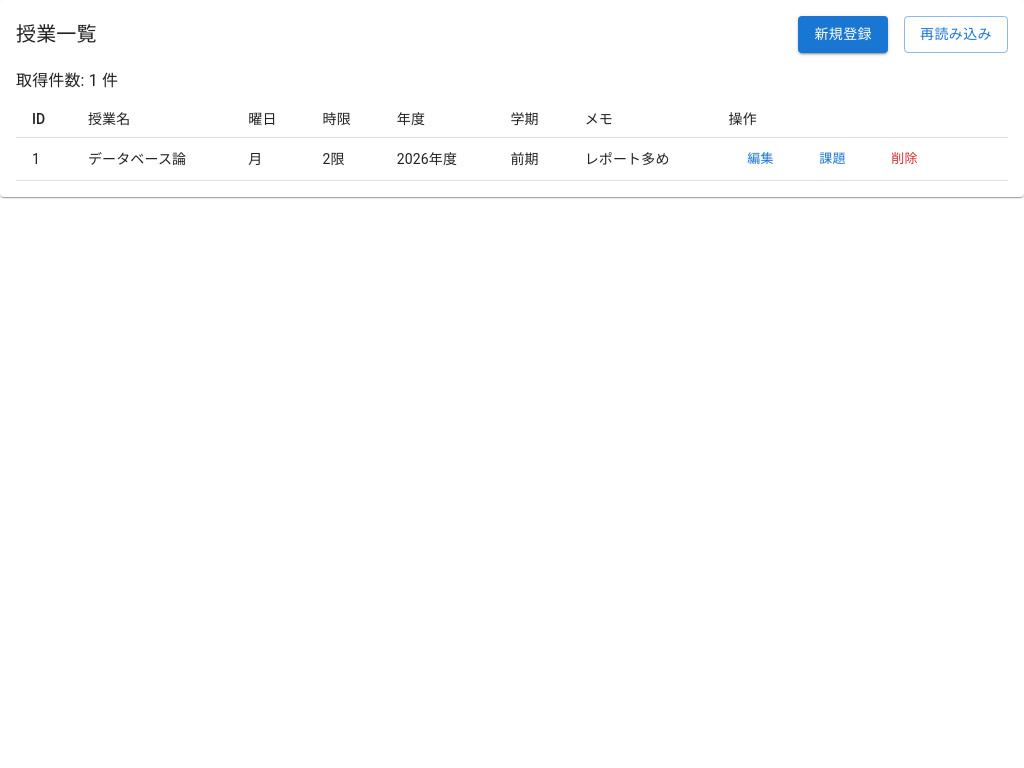
Test: 授業の編集 › 更新時にAPIがエラーを返すとダイアログ内に表示する
Check: the text "データベース論" is shown, box top-left (72, 137), bottom-right (232, 181)
Click the button with aria-label "授業「データベース論」を編集": (760, 159) top-left (728, 144), bottom-right (792, 174)
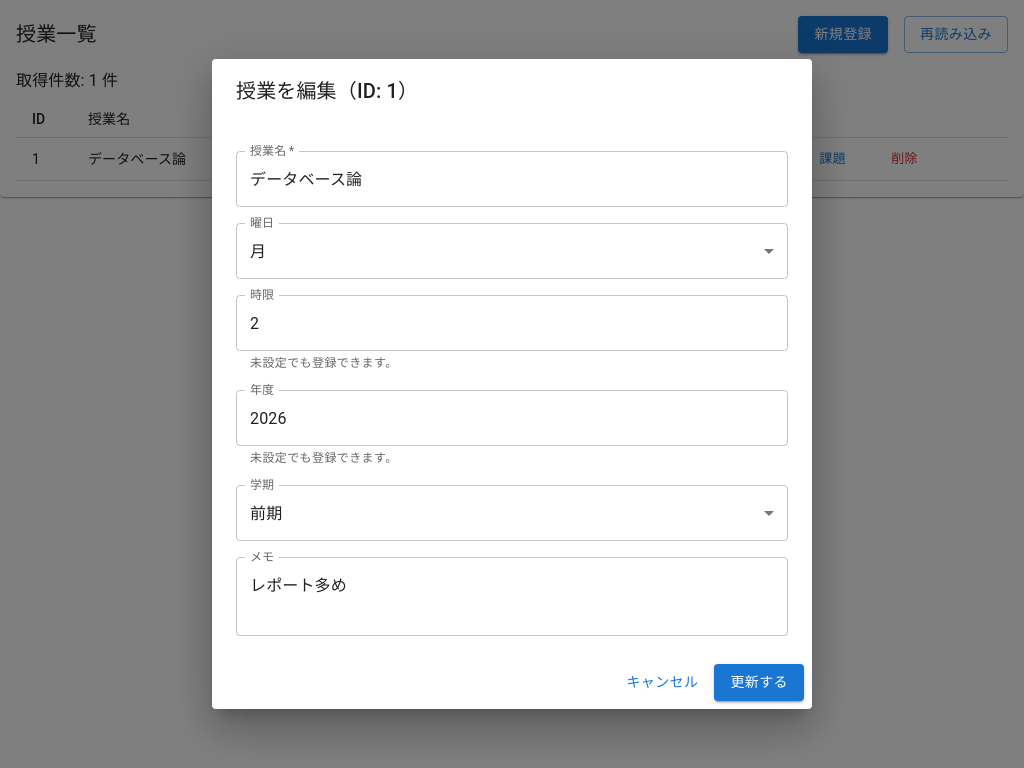
Click the button "更新する": (759, 682) top-left (714, 664), bottom-right (804, 701)
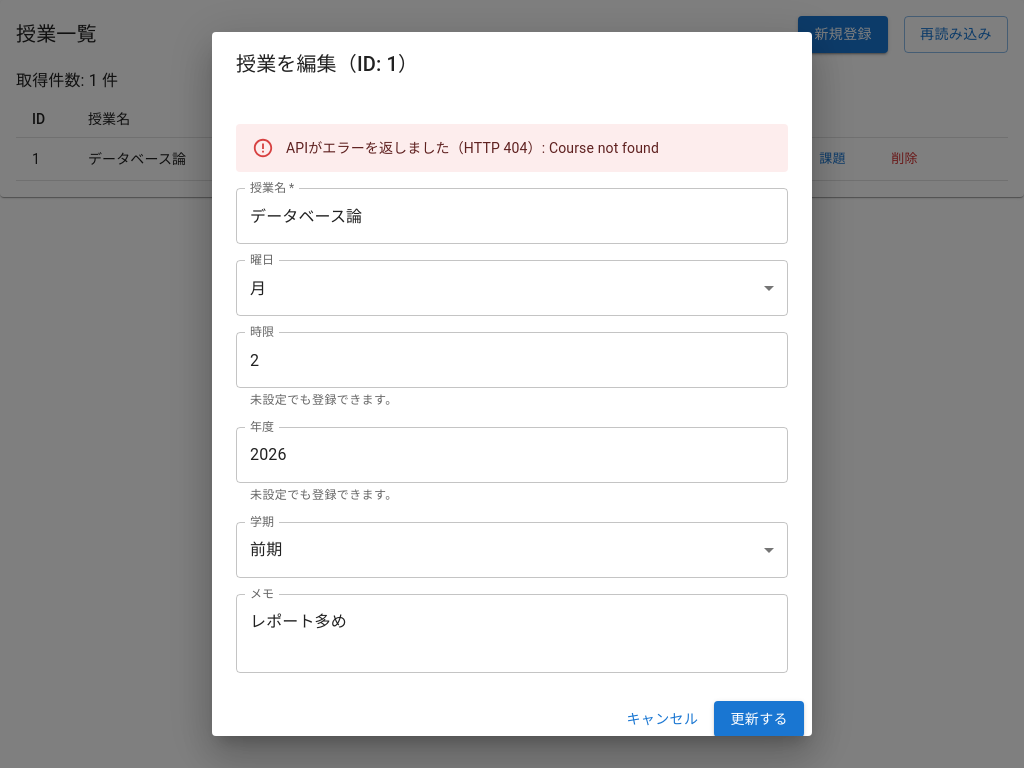
Check: the message shows "404", box top-left (286, 140), bottom-right (659, 156)
Check: the message shows "Course not found", box top-left (286, 140), bottom-right (659, 156)
